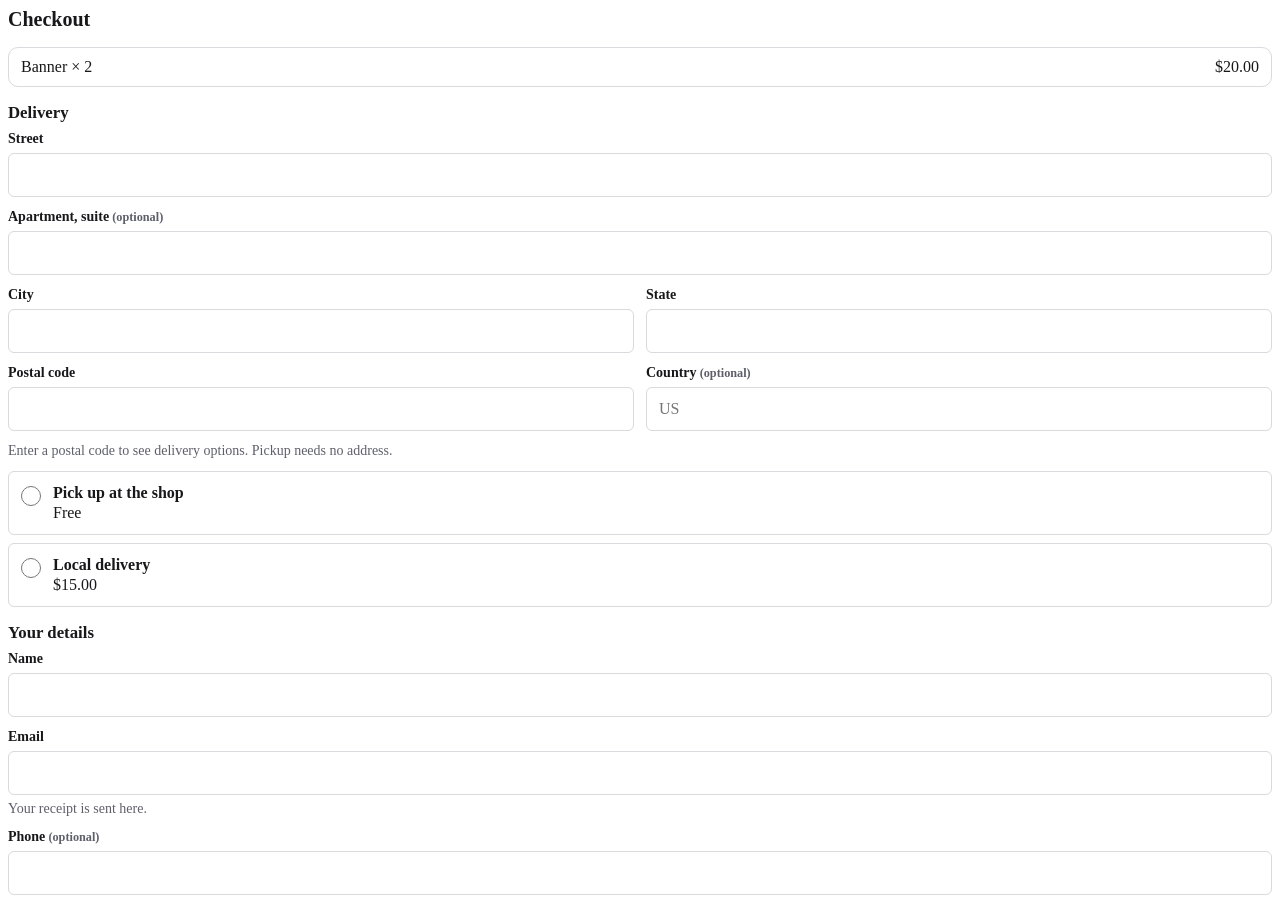
Test: <Checkout> taxed quotes › going back to a delivery choice already quoted asks nothing new
Click the radio button labelled "Pick up at the shop Free": (31, 496) x1=21 y1=486 x2=41 y2=506
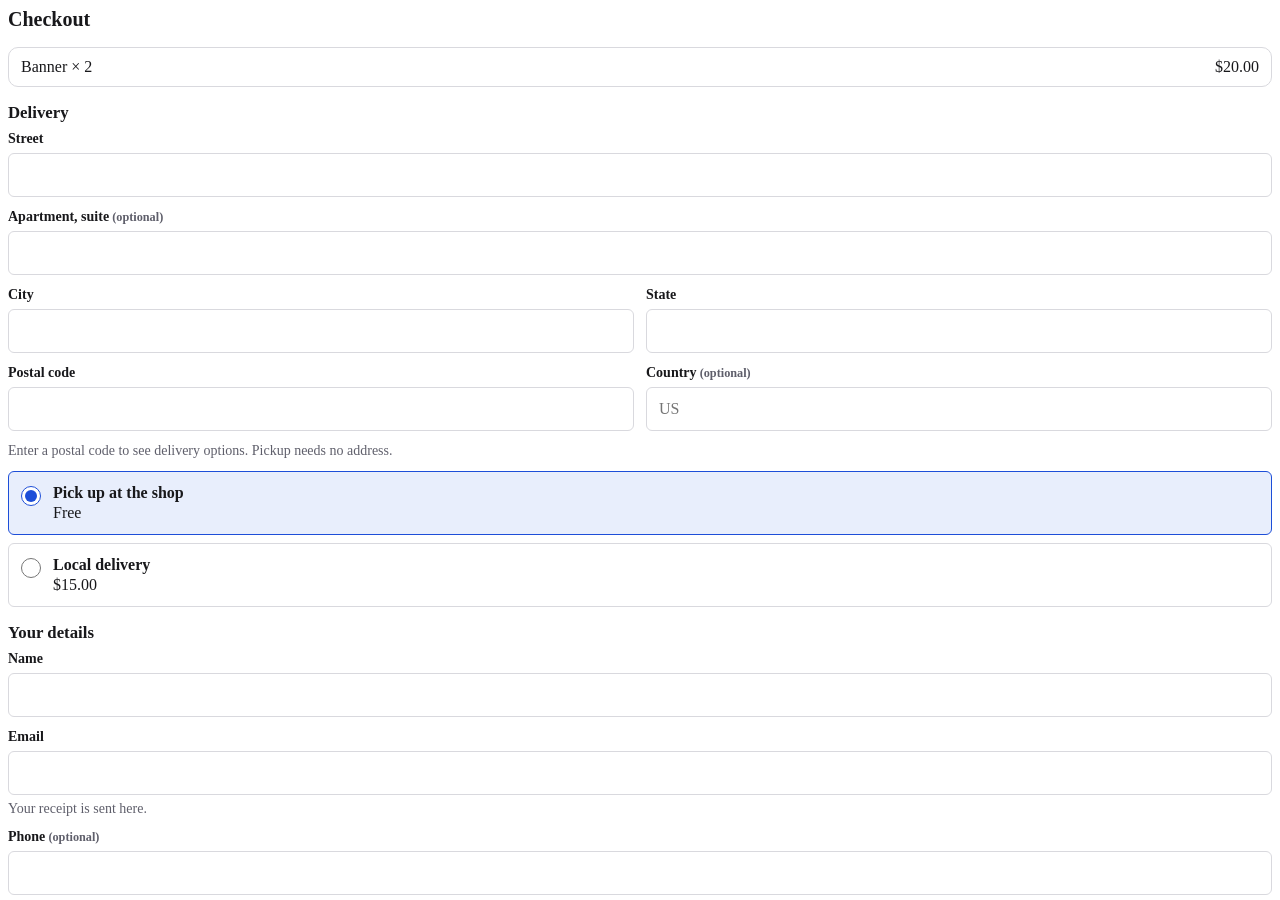
Click the radio button labelled "Local delivery $15.00": (31, 568) x1=21 y1=558 x2=41 y2=578
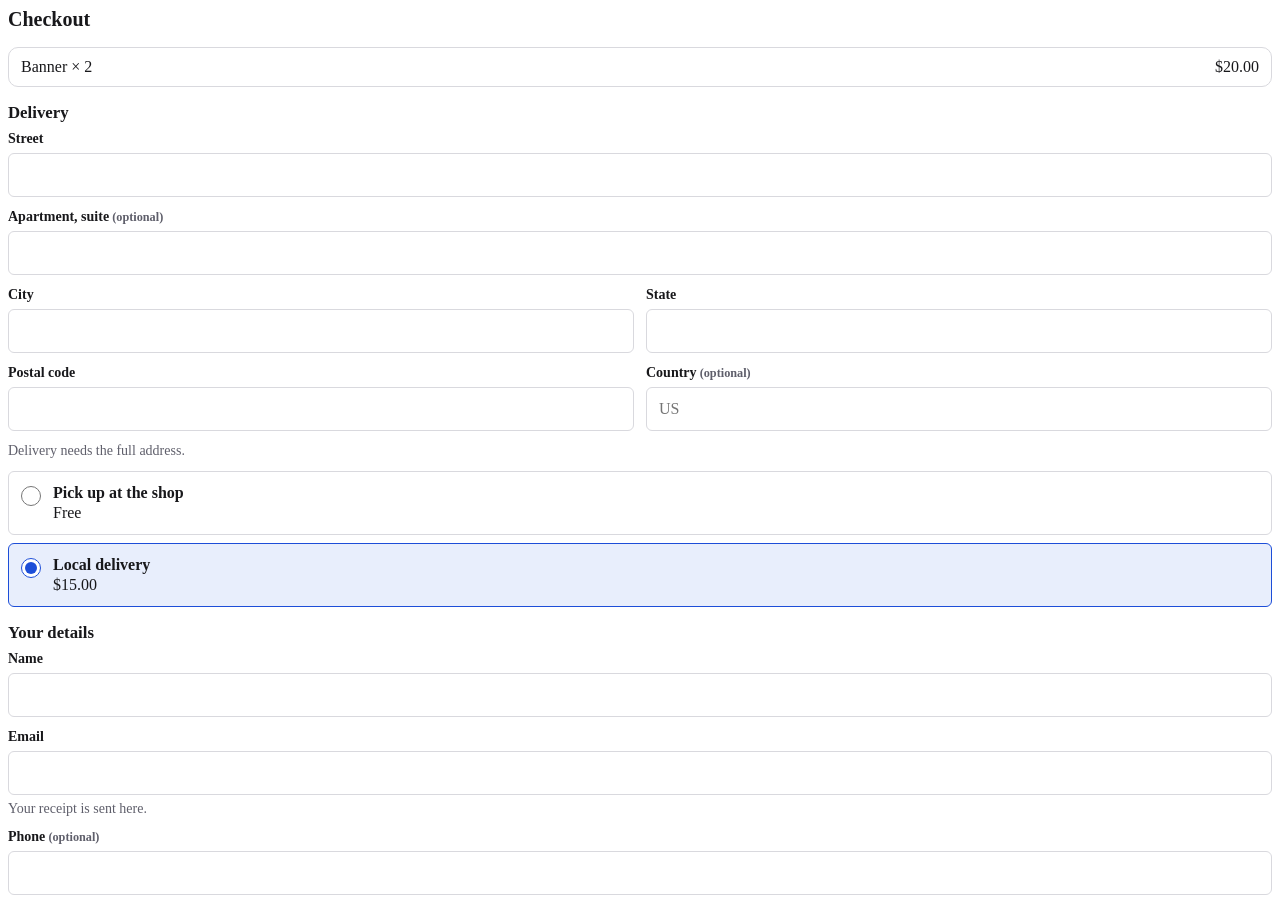
In the field labelled "Street": (640, 175) x1=8 y1=153 x2=1272 y2=197, type "1 Main St"
In the field labelled "City": (321, 331) x1=8 y1=309 x2=634 y2=353, type "Denver"
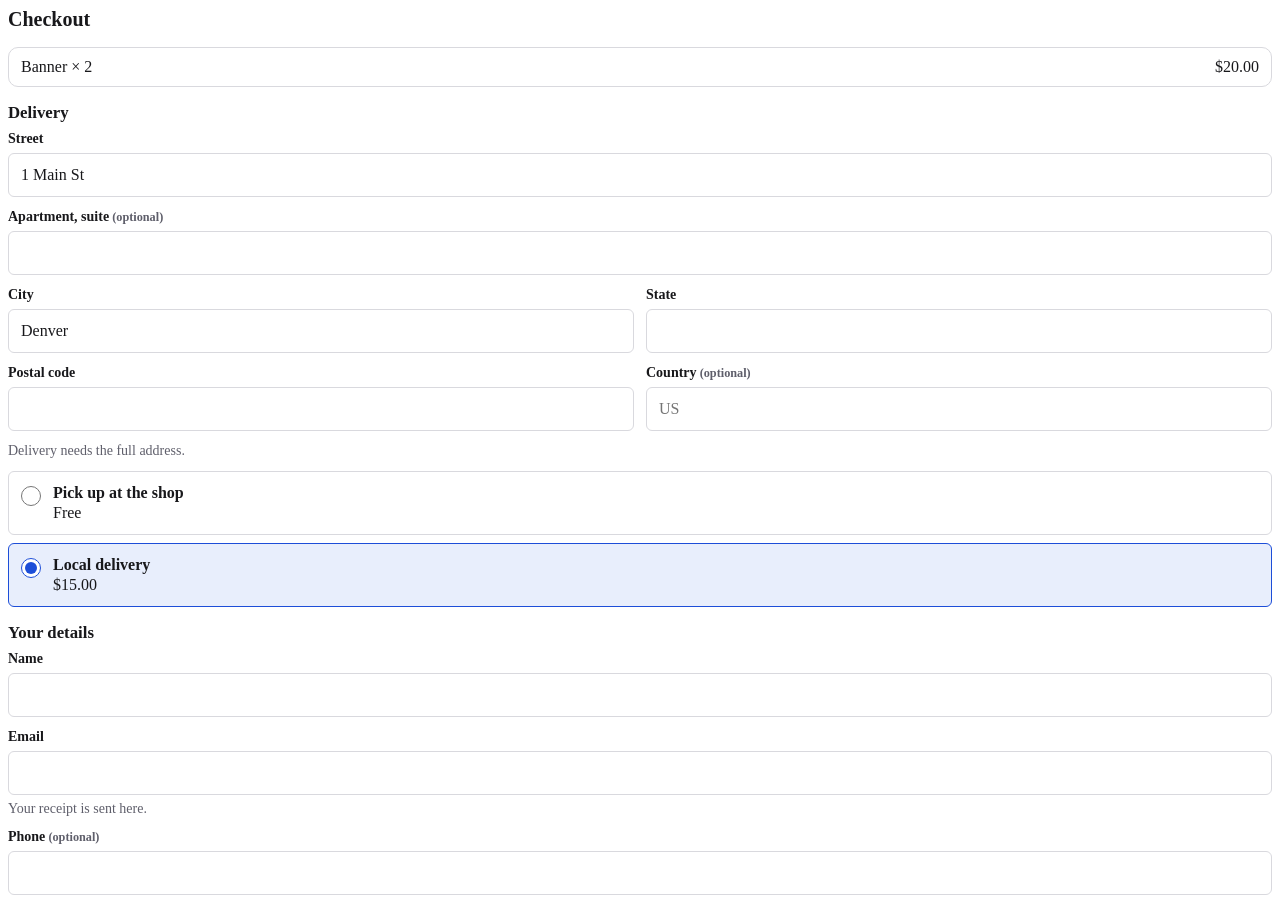
In the field labelled "Postal code": (321, 409) x1=8 y1=387 x2=634 y2=431, type "80202"
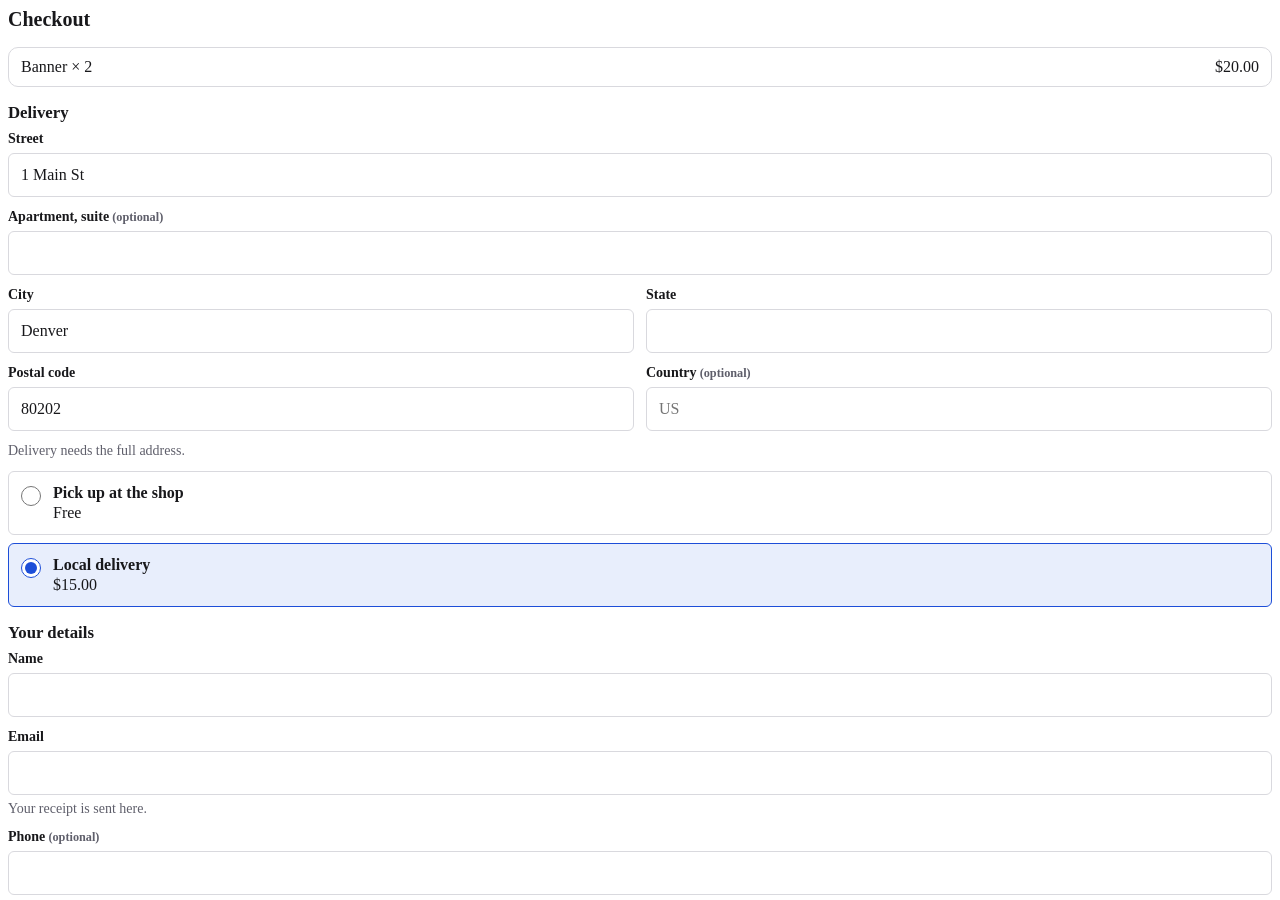
Click the radio button labelled "Pick up at the shop Free": (31, 496) x1=21 y1=486 x2=41 y2=506
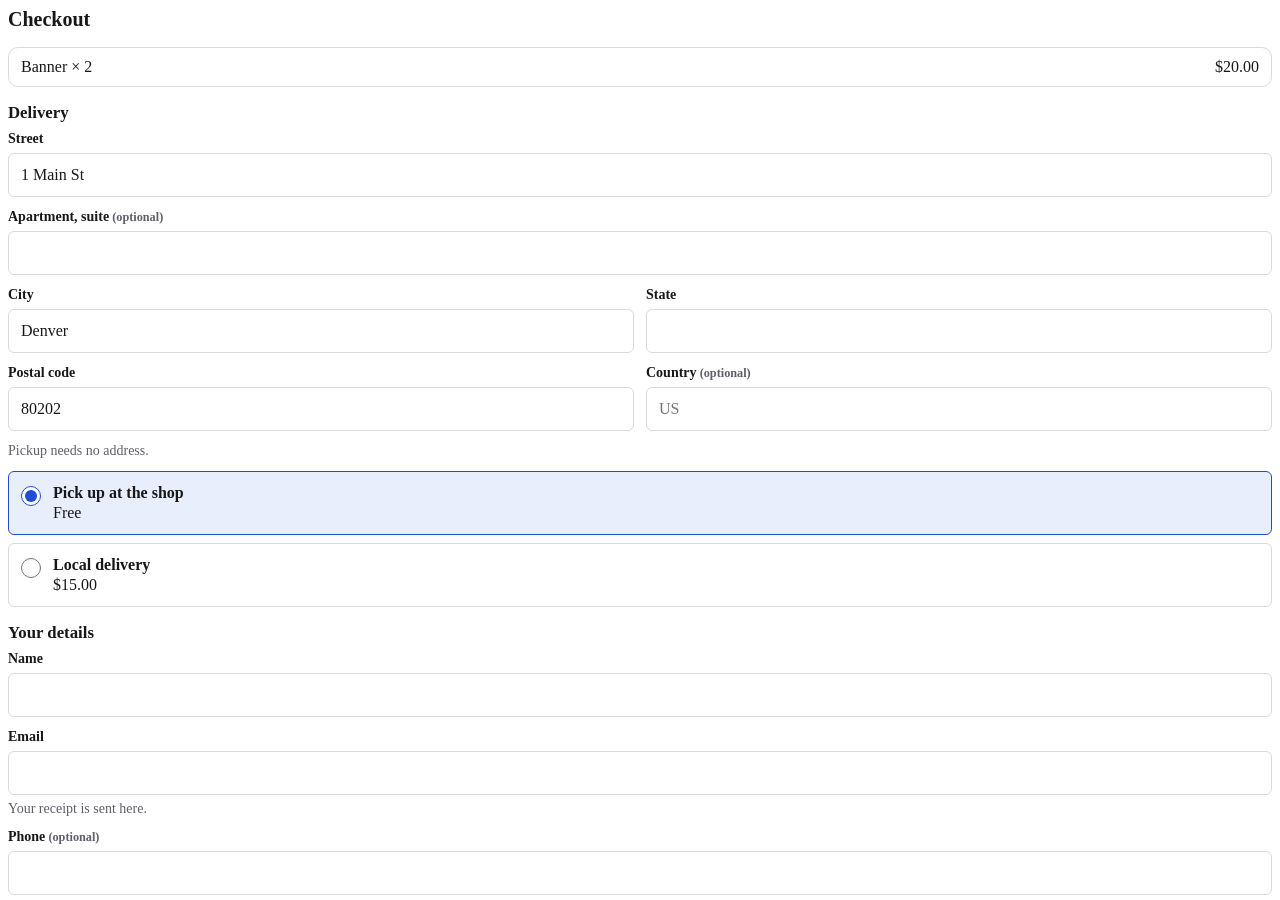
Click the radio button labelled "Local delivery $15.00": (31, 568) x1=21 y1=558 x2=41 y2=578
(page scrolled)
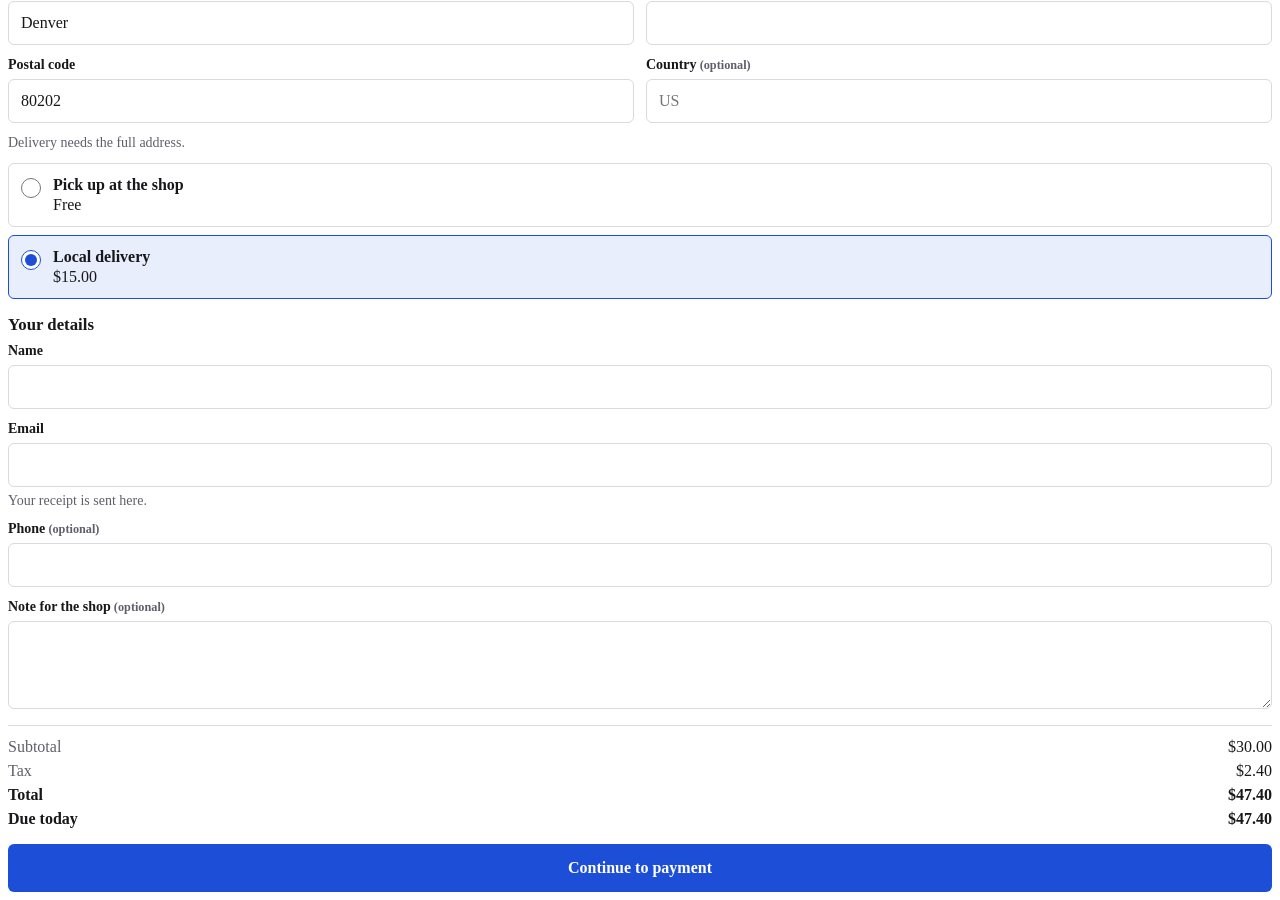
Check: the element named "Order total" shows "$47.40", box x1=1228 y1=786 x2=1272 y2=803
